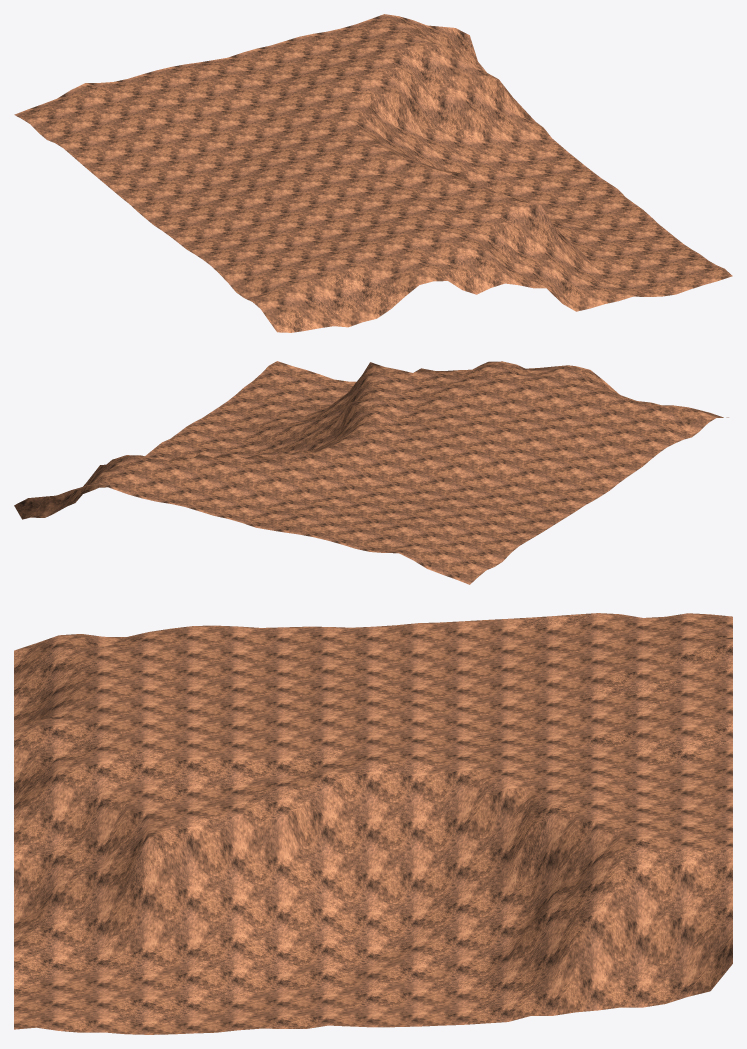
Rendered from terrain_04_12.dae.
3 renders of one model, top to bottom at view 1: azimuth 30°, elevation 25°; view 2: azimuth 150°, elevation 25°; view 3: azimuth 270°, elevation 25°, orthographic. The views are drawn at different scales.
Parts seen in each view (by area): view 1: terrain_04_12-node; view 2: terrain_04_12-node; view 3: terrain_04_12-node.
Boxes of the visible parts, box(x1,y1,x2,y2) form: terrain_04_12-node: box(14, 14, 732, 332); terrain_04_12-node: box(14, 361, 728, 584); terrain_04_12-node: box(14, 613, 732, 1034).
Size of the model in its own units: 128 by 128 by 26.52.
1 material, 1 textured.
